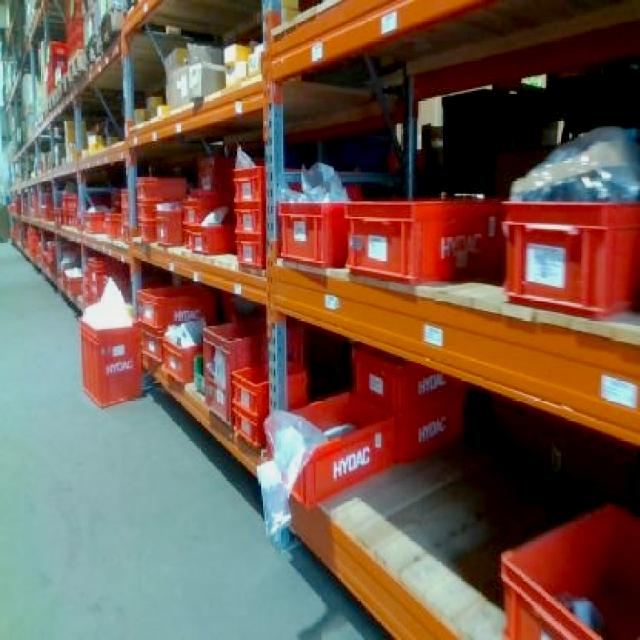pallets: (498, 505, 637, 637), (502, 200, 637, 315), (345, 198, 500, 282), (291, 391, 392, 503), (78, 318, 138, 405), (277, 200, 345, 265)
